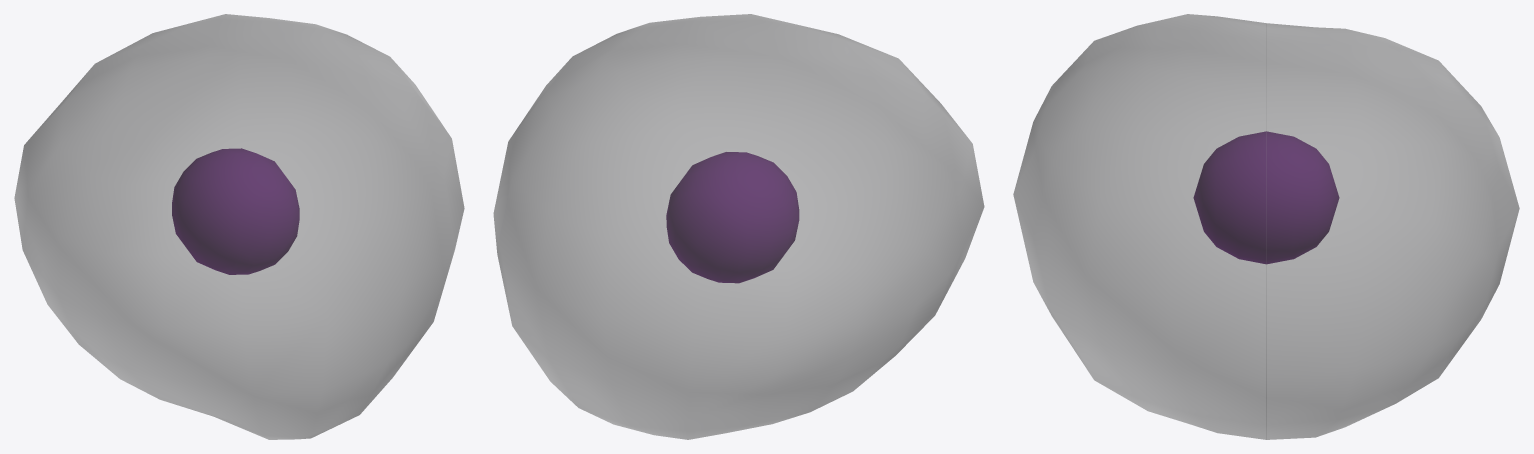
The model's file is cell.obj.
The picture shows the model from 3 angles, left to right: view 1: azimuth 30°, elevation 25°; view 2: azimuth 150°, elevation 25°; view 3: azimuth 270°, elevation 25°; orthographic projection. The views are drawn at different scales.
Parts seen in each view (by area): view 1: Sphere003, Sphere001; view 2: Sphere003, Sphere001; view 3: Sphere003, Sphere001.
Boxes of the visible parts, <box> form: Sphere003: <box>14,14,464,439</box>; Sphere001: <box>172,148,299,274</box>; Sphere003: <box>493,14,984,439</box>; Sphere001: <box>666,152,799,283</box>; Sphere003: <box>1013,14,1519,439</box>; Sphere001: <box>1193,131,1339,264</box>.
Size of the model in its own units: 15.17 by 13.89 by 16.77.
